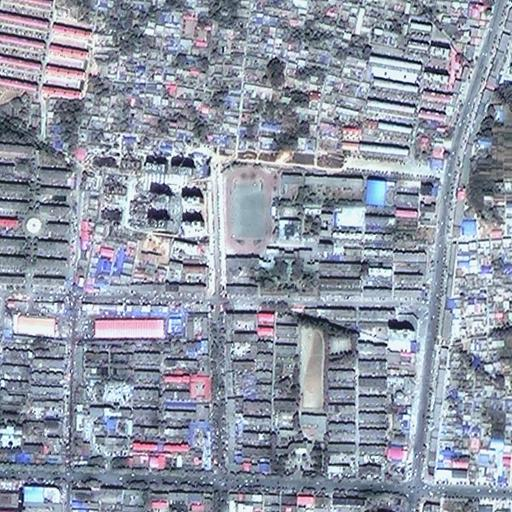school: (221, 164, 366, 295), (286, 323, 326, 473)
